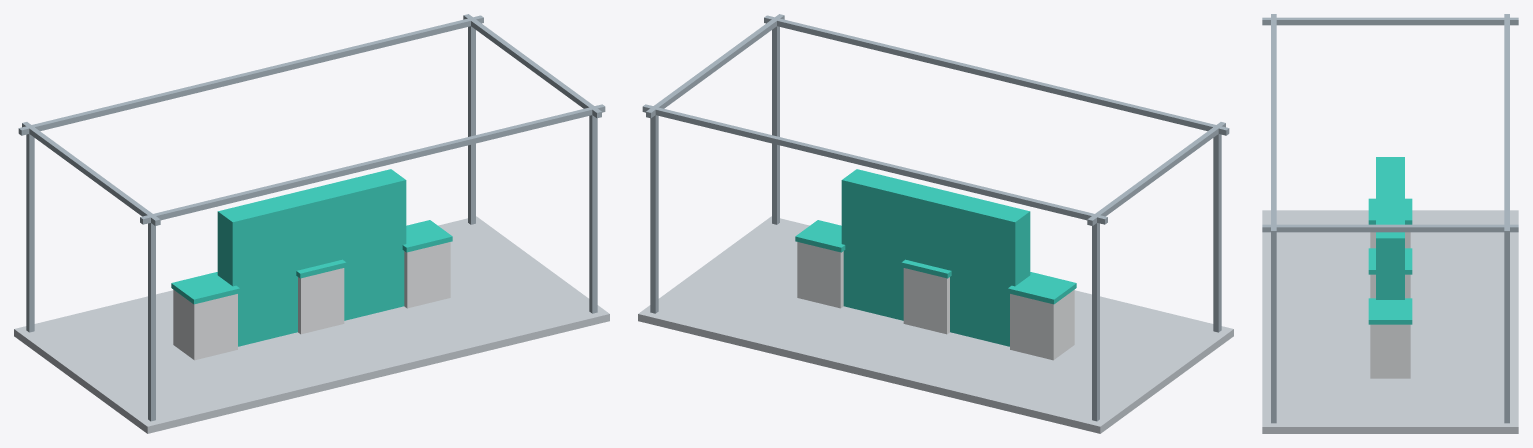
3 views of the same model, side by side, from view 1: azimuth 30°, elevation 25°; view 2: azimuth 150°, elevation 25°; view 3: azimuth 270°, elevation 25° (orthographic). The views are drawn at different scales.
Parts seen in each view (by area): view 1: Exhibition Booth Concept; view 2: Exhibition Booth Concept; view 3: Exhibition Booth Concept.
Part boxes in pixels (x1,y1,x2,y2): Exhibition Booth Concept: [14, 14, 609, 433]; Exhibition Booth Concept: [638, 14, 1233, 433]; Exhibition Booth Concept: [1262, 14, 1518, 433].
Size of the model in its own units: 8 by 3.49 by 4.
